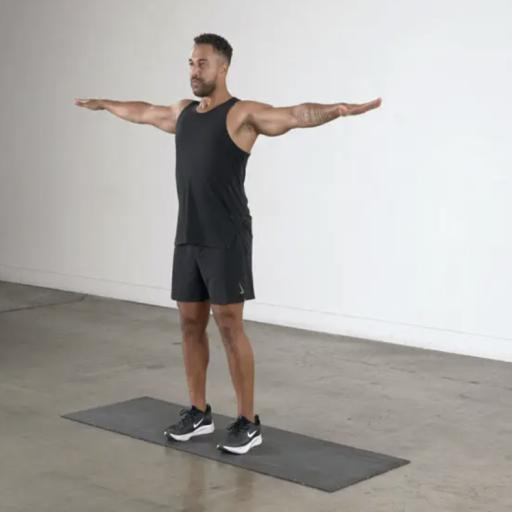Normal_Dips: (46, 7, 395, 470)
